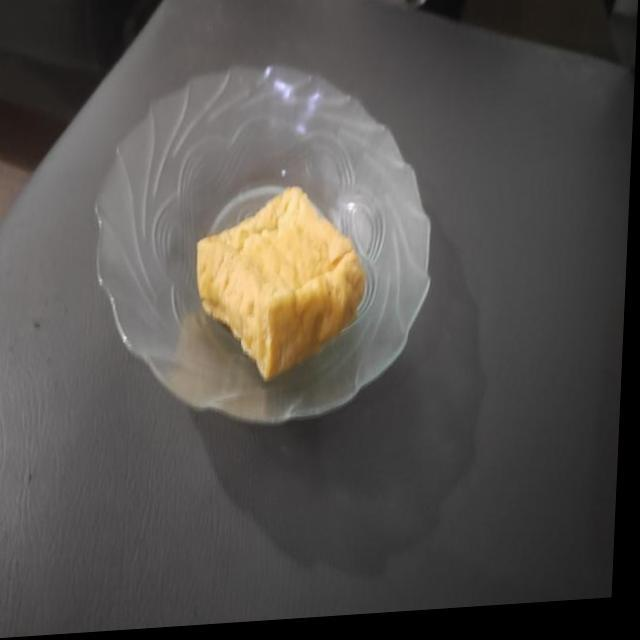tahu_goreng: (197, 187, 366, 380)
